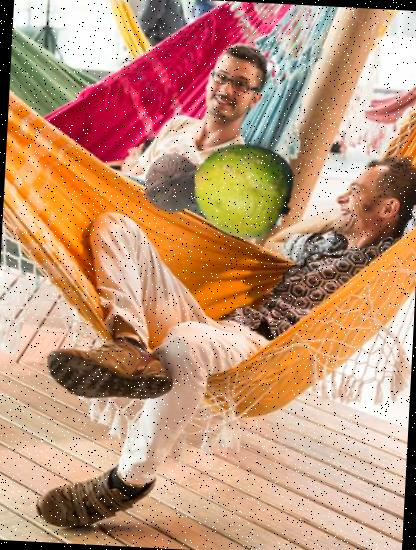Limes: (189, 134, 298, 243)
Walnut: (142, 151, 206, 214)
